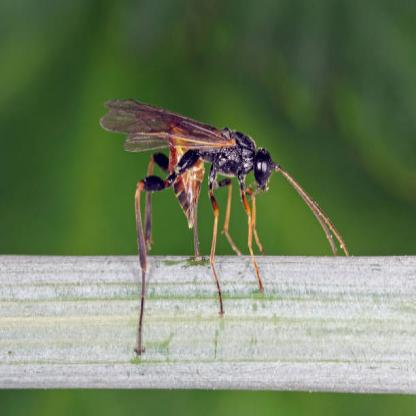sawfly: (100, 96, 353, 370)
